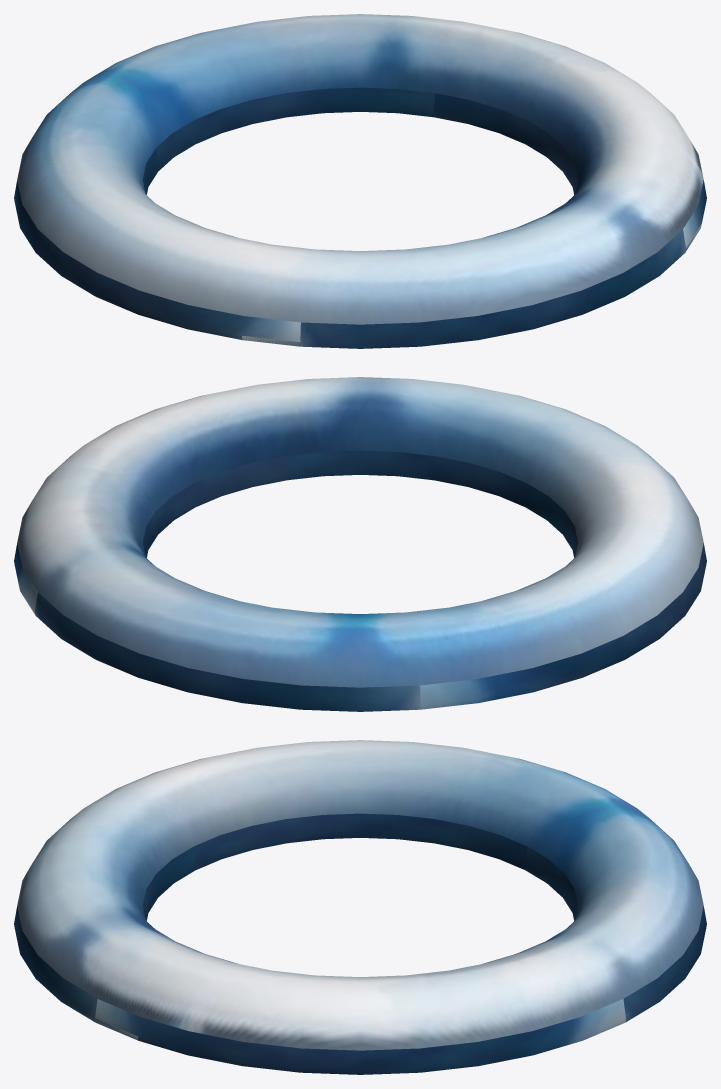
The picture shows the model from 3 angles, top to bottom: view 1: azimuth 30°, elevation 25°; view 2: azimuth 150°, elevation 25°; view 3: azimuth 270°, elevation 25°; orthographic projection.
Visible parts, largest first — view 1: Box001; view 2: Box001; view 3: Box001.
Boxes of the visible parts, x1,y1,x2,y2 form: Box001: [14, 14, 706, 348]; Box001: [14, 377, 706, 711]; Box001: [14, 740, 706, 1074].
Size of the model in its own units: 42 by 4.32 by 42.
Materials: 1 (1 with a texture image).
